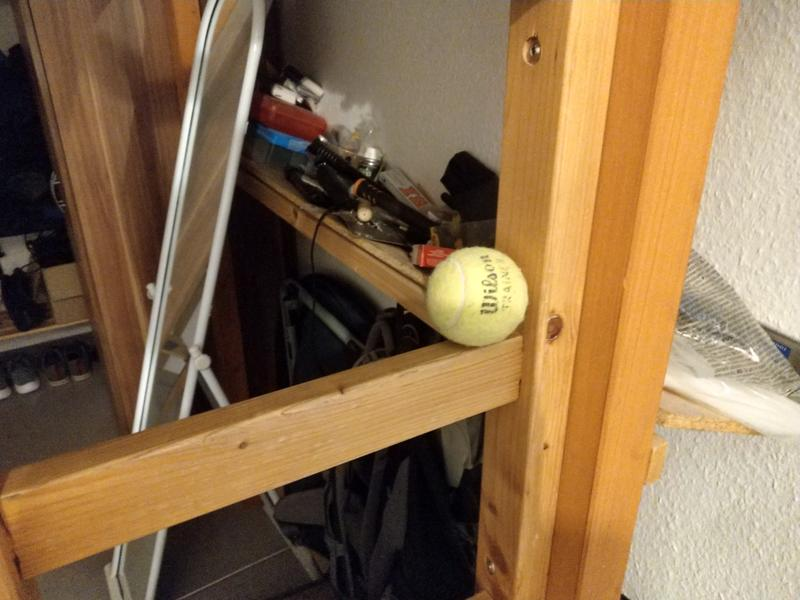Tennisball: (425, 242, 532, 349)
